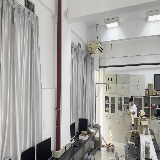fire: (108, 129, 112, 146)
